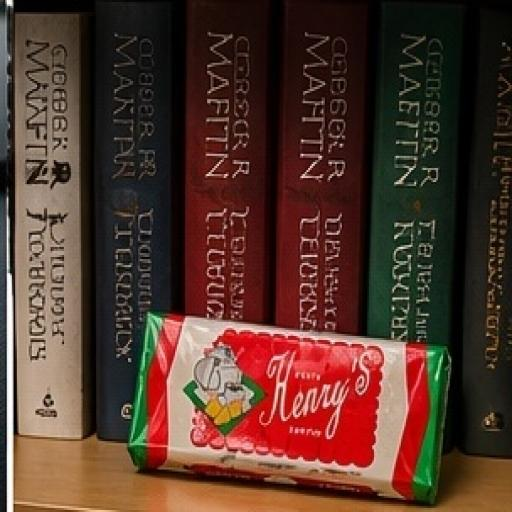golden: (88, 247, 482, 502)
